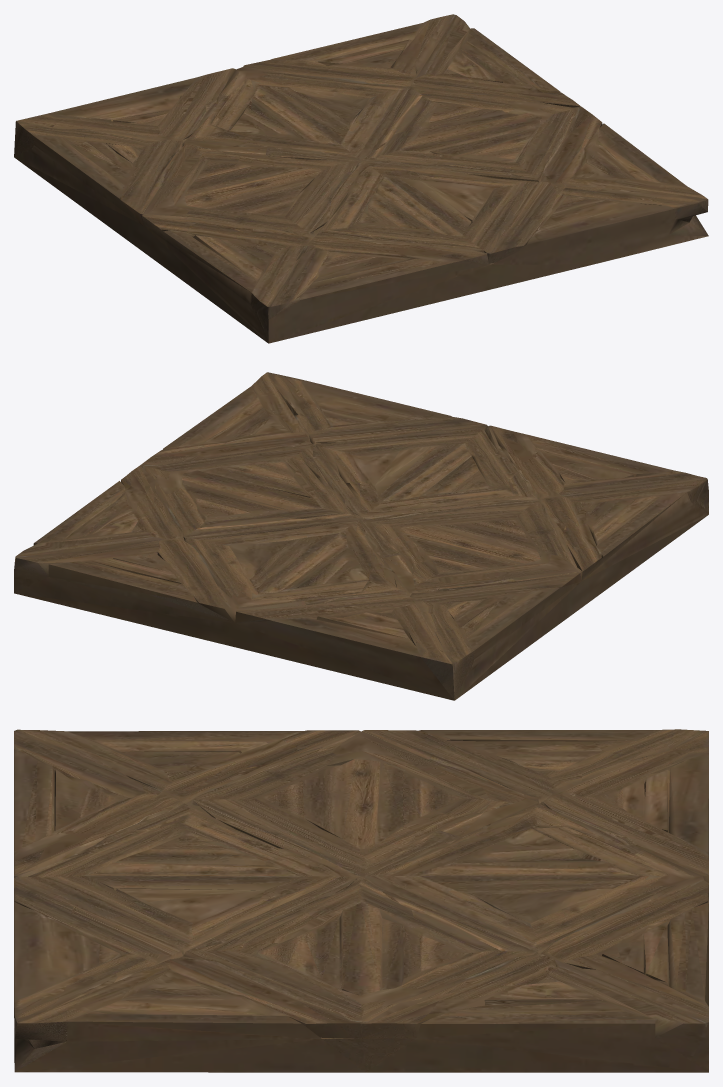
File: blk_wooden_floor.glb
3 views of the same model, one above another, from view 1: azimuth 30°, elevation 25°; view 2: azimuth 150°, elevation 25°; view 3: azimuth 270°, elevation 25° (orthographic). The views are drawn at different scales.
Visible parts, largest first — view 1: Mesh_0; view 2: Mesh_0; view 3: Mesh_0.
Part boxes in pixels (left/top/right/bottom): Mesh_0: left=14, top=14, right=708, bottom=343; Mesh_0: left=14, top=372, right=708, bottom=700; Mesh_0: left=14, top=729, right=708, bottom=1072.
Size of the model in its own units: 1.9 by 0.1543 by 1.9.
Materials: 1 (1 with a texture image).
